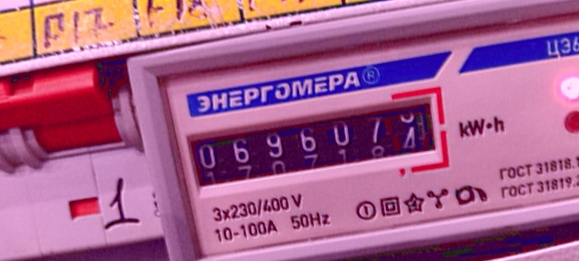0: (328, 119, 350, 151), (195, 143, 216, 173)
4: (397, 124, 418, 155)
6: (296, 125, 317, 156), (229, 137, 250, 167)
7: (362, 115, 385, 148)
9: (261, 132, 283, 162)
screen: (170, 84, 456, 208)
